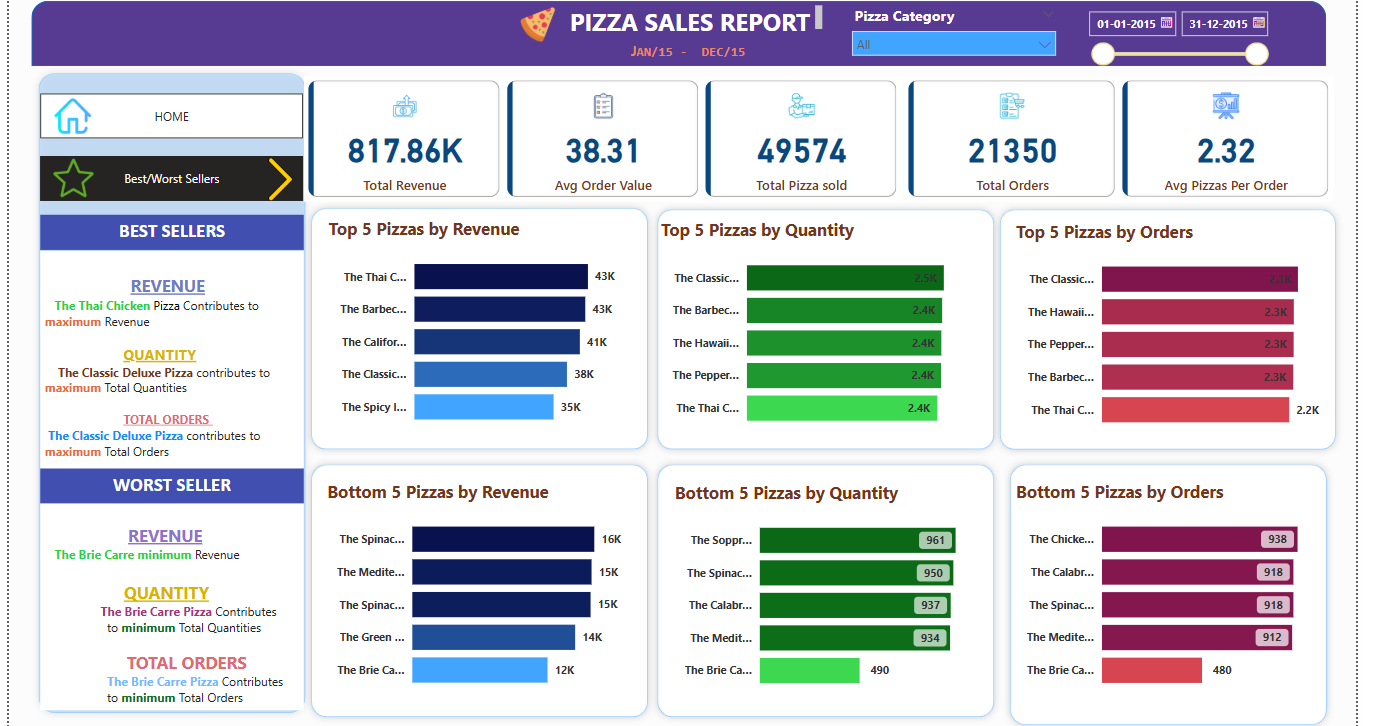

This screenshot's page, from the dashboard's own definition file:
{"tool":"powerbi","page":{"name":"Best/Worst Sellers","canvas":[1500,820],"ordinal":1},"visuals":[{"type":"shape","box":[25.3,78.7,313.2,728.9],"z":0},{"type":"cardVisual","fields":{"Data":["pizza_sales.Total Revenue","pizza_sales.Avg Order Value","pizza_sales.Total Pizza sold"]},"box":[328.8,89,667,140],"z":1000},{"type":"cardVisual","fields":{"Data":["pizza_sales.Total Orders","pizza_sales.Avg Pizzas Per Order"]},"box":[996.8,89.3,479.5,140],"z":2000},{"type":"shape","box":[25,5,1442.5,72.5],"z":3000},{"type":"textbox","box":[676.5,46.2,159.2,30.8],"z":4000},{"type":"image","box":[556.5,6.9,63.8,50],"z":5000},{"type":"textbox","box":[620.4,5.6,291.5,40.2],"z":6000},{"type":"shape","box":[328.6,228.5,391.5,285],"z":7000},{"type":"shape","box":[1106.5,513.5,369.7,306.8],"z":8000},{"type":"textbox","box":[35.1,244.4,293.5,39.3],"z":9000},{"type":"textbox","box":[35.1,283.7,293.5,243],"z":10000},{"type":"textbox","box":[35.1,526.7,293.5,39.3],"z":11000},{"type":"textbox","box":[35.1,566,293.5,230.3],"z":12000},{"type":"slicer","fields":{"Values":["pizza_sales.pizza_category"]},"box":[929.4,5.1,247.7,70.6],"z":13000},{"type":"slicer","fields":{"Values":["pizza_sales.order_date"]},"box":[1191.2,6.4,220.8,73.2],"z":14000},{"type":"shape","box":[715,229.8,391.5,283.7],"z":15000},{"type":"shape","box":[1096.2,229.8,390.2,283.7],"z":16000},{"type":"shape","box":[328.6,513.5,391.5,297.8],"z":17000},{"type":"shape","box":[715,513.5,391.5,297.8],"z":18000},{"type":"barChart","title":"Top 5 Pizzas by Revenue","fields":{"Category":["pizza_sales.pizza_name"],"Y":["pizza_sales.Total Revenue"]},"box":[350.4,246.1,350.4,246.1],"z":19000},{"type":"barChart","title":"Bottom 5 Pizzas by Revenue","fields":{"Category":["pizza_sales.pizza_name"],"Y":["pizza_sales.Total Revenue"]},"box":[350,539.3,350,246.8],"z":20000},{"type":"barChart","title":"Top 5 Pizzas by Quantity","fields":{"Category":["pizza_sales.pizza_name"],"Y":["pizza_sales.Total Pizza sold"]},"box":[721.6,248.2,350.4,246.1],"z":21000},{"type":"barChart","title":"Bottom 5 Pizzas by Quantity","fields":{"Category":["pizza_sales.pizza_name"],"Y":["pizza_sales.Total Pizza sold"]},"box":[737.4,540.7,349.7,245.8],"z":22000},{"type":"barChart","title":"Top 5 Pizzas by Orders","fields":{"Category":["pizza_sales.pizza_name"],"Y":["pizza_sales.Total Orders"]},"box":[1116.8,249,350.4,246.5],"z":23000},{"type":"barChart","title":"Bottom 5 Pizzas by Orders","fields":{"Category":["pizza_sales.pizza_name"],"Y":["pizza_sales.Total Orders"]},"box":[1116.6,539.3,351.1,247.2],"z":24000},{"type":"pageNavigator","box":[35.1,178.4,293.5,50.6],"z":25000},{"type":"pageNavigator","box":[35.1,108.1,293.5,50.6],"z":26000},{"type":"image","box":[199.4,175.6,206.5,57.6],"z":27000},{"type":"image","box":[25.3,108.1,91.3,50.6],"z":28000},{"type":"image","box":[22.5,175.6,99.7,54.8],"z":29000}]}

Visuals, with their boxes on the page's 1500x820 design canvas (x1, y1, x2, y2). These are canvas units, not pixel positions in the 1382x726 screenshot, which may show the page scaled, cropped or inside an application window:
shape: rect(25, 79, 338, 808)
cardVisual - pizza_sales.Total Revenue x pizza_sales.Avg Order Value: rect(329, 89, 996, 229)
cardVisual - pizza_sales.Total Orders x pizza_sales.Avg Pizzas Per Order: rect(997, 89, 1476, 229)
shape: rect(25, 5, 1468, 78)
textbox: rect(676, 46, 836, 77)
image: rect(556, 7, 620, 57)
textbox: rect(620, 6, 912, 46)
shape: rect(329, 228, 720, 514)
shape: rect(1106, 514, 1476, 820)
textbox: rect(35, 244, 329, 284)
textbox: rect(35, 284, 329, 527)
textbox: rect(35, 527, 329, 566)
textbox: rect(35, 566, 329, 796)
slicer - pizza_sales.pizza_category: rect(929, 5, 1177, 76)
slicer - pizza_sales.order_date: rect(1191, 6, 1412, 80)
shape: rect(715, 230, 1106, 514)
shape: rect(1096, 230, 1486, 514)
shape: rect(329, 514, 720, 811)
shape: rect(715, 514, 1106, 811)
"Top 5 Pizzas by Revenue" barChart: rect(350, 246, 701, 492)
"Bottom 5 Pizzas by Revenue" barChart: rect(350, 539, 700, 786)
"Top 5 Pizzas by Quantity" barChart: rect(722, 248, 1072, 494)
"Bottom 5 Pizzas by Quantity" barChart: rect(737, 541, 1087, 786)
"Top 5 Pizzas by Orders" barChart: rect(1117, 249, 1467, 496)
"Bottom 5 Pizzas by Orders" barChart: rect(1117, 539, 1468, 786)
pageNavigator: rect(35, 178, 329, 229)
pageNavigator: rect(35, 108, 329, 159)
image: rect(199, 176, 406, 233)
image: rect(25, 108, 117, 159)
image: rect(22, 176, 122, 230)
